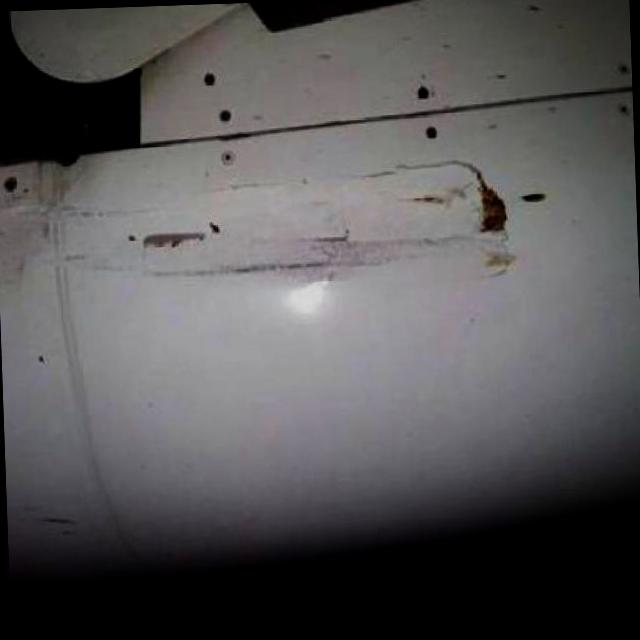crack: (354, 158, 510, 235), (142, 230, 210, 248), (297, 223, 355, 243)
